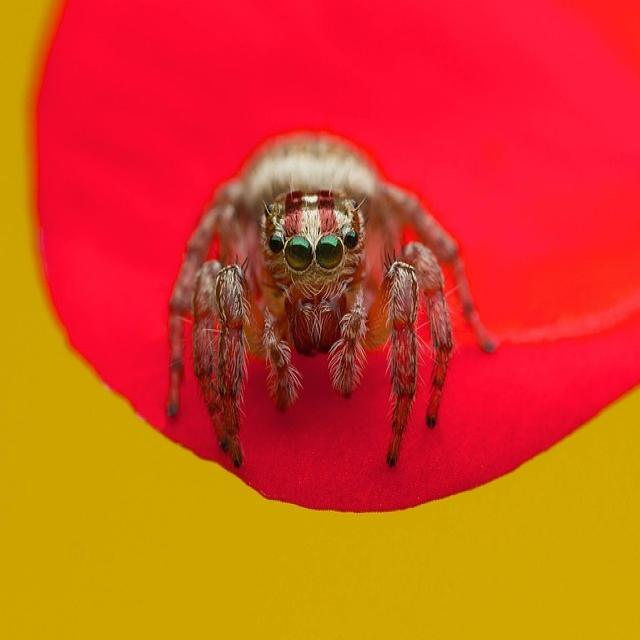spyder: (168, 133, 495, 466)
